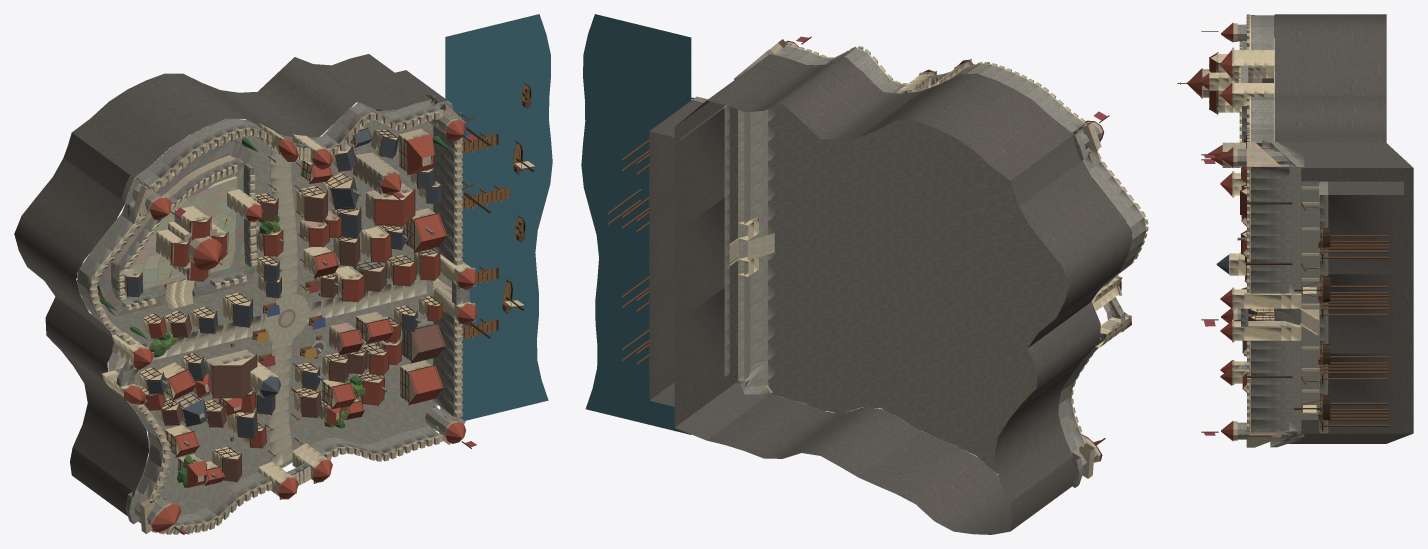
File: Toulyeux_v3_Rearranged_Buildings.glb
3 renders of one model, left to right at view 1: azimuth 30°, elevation 25°; view 2: azimuth 150°, elevation 25°; view 3: azimuth 270°, elevation 25°, orthographic. The views are drawn at different scales.
Visible parts, largest first — view 1: Toulyeux_rock, Toulyeux_river, Toulyeux_cobble, Toulyeux_aged_stone, Toulyeux_roof_terra, Toulyeux_cobble_cream, Toulyeux_cream_limestone, Toulyeux_cut_stone, Toulyeux_dark_wood, Toulyeux_plaster, Toulyeux_roof_umber, Toulyeux_roof_slate (+6 smaller); view 2: Toulyeux_rock, Toulyeux_cobble, Toulyeux_river, Toulyeux_aged_stone, Toulyeux_cream_limestone, Toulyeux_cut_stone, Toulyeux_oak_beams; view 3: Toulyeux_rock, Toulyeux_aged_stone, Toulyeux_cream_limestone, Toulyeux_oak_beams, Toulyeux_cut_stone, Toulyeux_v4_harbor_aged_stone, Toulyeux_roof_terra, Toulyeux_dark_wood, Toulyeux_v4_harbor_cut_stone, Toulyeux_cobble, Toulyeux_plaster.
Part boxes in pixels (bbox=[...]): Toulyeux_rock: bbox=[14, 54, 447, 515]; Toulyeux_river: bbox=[445, 14, 552, 420]; Toulyeux_cobble: bbox=[77, 99, 452, 515]; Toulyeux_aged_stone: bbox=[77, 95, 469, 525]; Toulyeux_roof_terra: bbox=[123, 119, 477, 532]; Toulyeux_cobble_cream: bbox=[114, 141, 426, 465]; Toulyeux_cream_limestone: bbox=[89, 110, 471, 533]; Toulyeux_cut_stone: bbox=[90, 104, 475, 534]; Toulyeux_dark_wood: bbox=[126, 82, 534, 534]; Toulyeux_plaster: bbox=[132, 137, 440, 483]; Toulyeux_roof_umber: bbox=[162, 191, 445, 482]; Toulyeux_roof_slate: bbox=[127, 128, 441, 438]; Toulyeux_rock: bbox=[649, 54, 1132, 534]; Toulyeux_cobble: bbox=[729, 57, 1132, 473]; Toulyeux_river: bbox=[581, 14, 691, 434]; Toulyeux_aged_stone: bbox=[692, 44, 1145, 487]; Toulyeux_cream_limestone: bbox=[738, 45, 1146, 444]; Toulyeux_cut_stone: bbox=[747, 39, 1148, 478]; Toulyeux_oak_beams: bbox=[607, 97, 694, 364]; Toulyeux_rock: bbox=[1262, 14, 1413, 443]; Toulyeux_aged_stone: bbox=[1237, 15, 1328, 447]; Toulyeux_cream_limestone: bbox=[1209, 14, 1301, 432]; Toulyeux_oak_beams: bbox=[1209, 54, 1388, 431]; Toulyeux_cut_stone: bbox=[1203, 14, 1292, 447]; Toulyeux_v4_harbor_aged_stone: bbox=[1301, 181, 1319, 419]; Toulyeux_roof_terra: bbox=[1187, 22, 1255, 441]; Toulyeux_dark_wood: bbox=[1201, 31, 1330, 432]; Toulyeux_v4_harbor_cut_stone: bbox=[1299, 186, 1319, 414]; Toulyeux_cobble: bbox=[1274, 146, 1319, 442]; Toulyeux_plaster: bbox=[1211, 55, 1274, 391].
Size of the model in its own units: 246 by 182 by 110.
27 materials, 27 textured.
